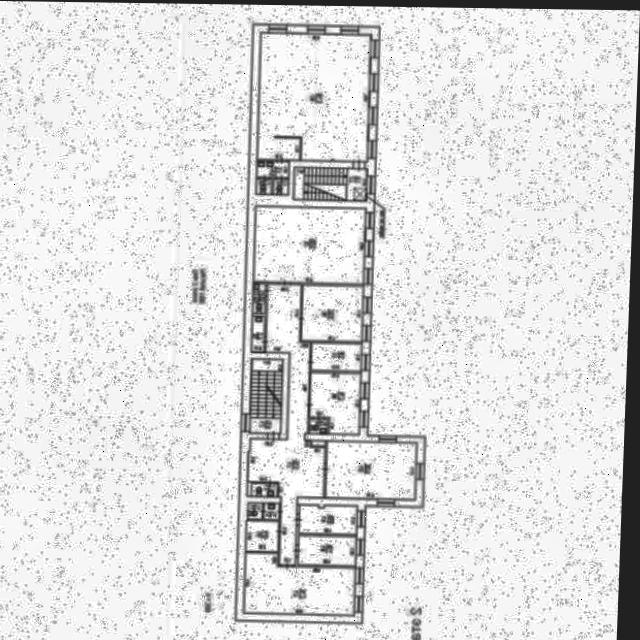room: (245, 282, 331, 564), (259, 31, 372, 161), (254, 205, 366, 282), (245, 552, 355, 613), (327, 439, 417, 497), (302, 284, 363, 340), (310, 371, 361, 432), (250, 357, 283, 432), (295, 166, 368, 199), (299, 534, 357, 564), (300, 504, 358, 533), (312, 342, 362, 370), (246, 519, 279, 550), (258, 159, 290, 176), (253, 315, 265, 350), (254, 283, 267, 313), (252, 481, 278, 494), (248, 501, 263, 517), (264, 502, 279, 518), (310, 418, 327, 431), (275, 177, 289, 192), (258, 178, 272, 192)
